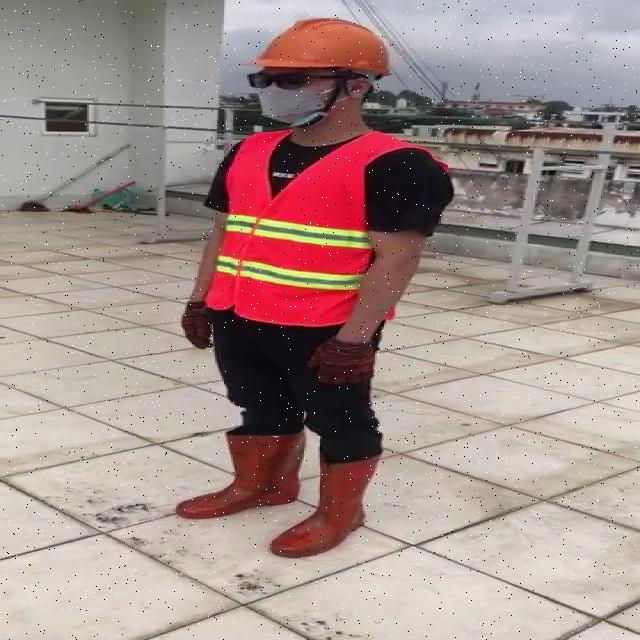Hard_hat: (240, 12, 399, 88)
Person: (176, 14, 455, 612)
Vest: (217, 127, 380, 330)
